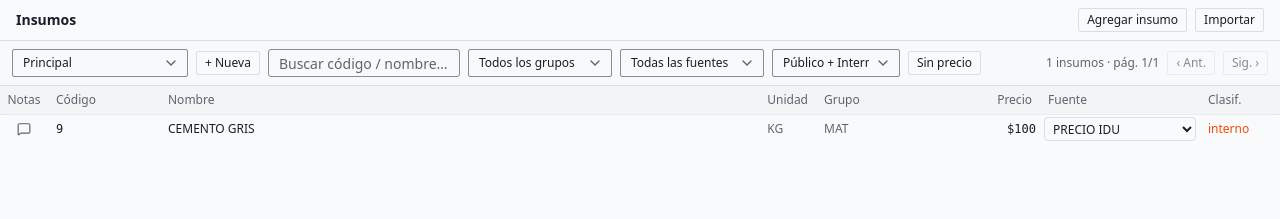
Test case: Insumos: no se puede guardar un precio de una lista en otra › un precio editado y no guardado no sobrevive al cambio de lista
This screenshot has width=1280, height=219.
Click the button "$100".
click(984, 129)  # box [932,121,1036,137]
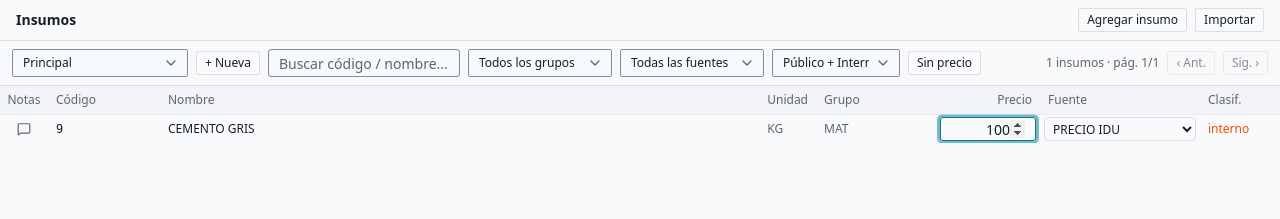
Replace the text in the number field with "555" at [988, 129], box [940,117,1036,141]
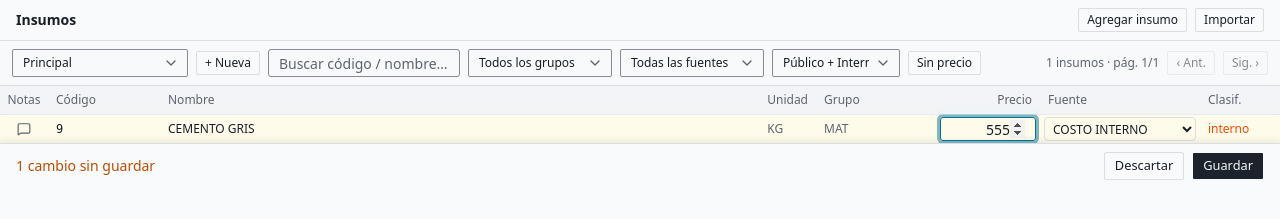
Leave the number field, box [940,117,1036,141]
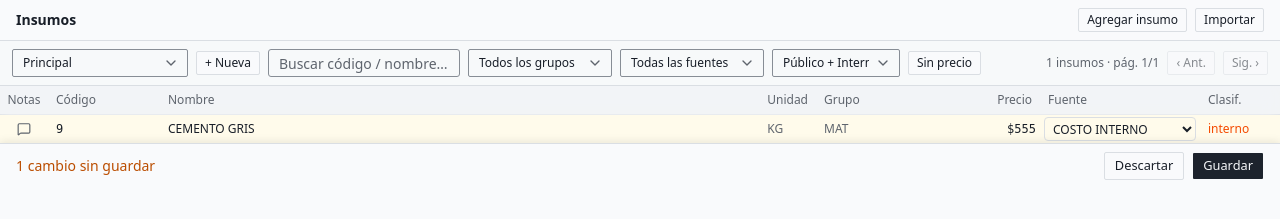
Check: the text "1 cambio sin guardar" is shown, box [16,156,155,176]
Check: the button "$555" is shown, box [932,121,1036,137]
Click the dropdown labelled "Principal".
click(100, 63)  # box [12,49,188,77]
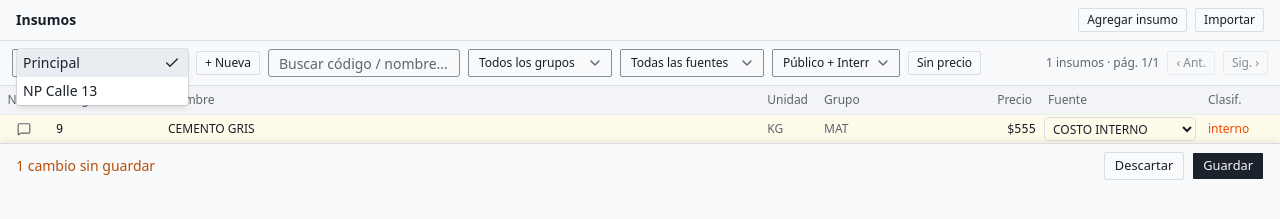
Click the option "NP Calle 13".
click(60, 90)  # box [23,81,97,100]
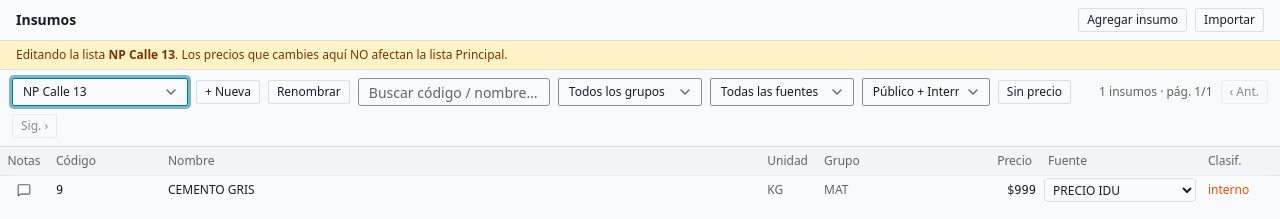
Check: the button "$555" is gone
Check: the text "1 cambio sin guardar" is gone
Check: the button "$999" is shown, box [932,182,1036,198]
